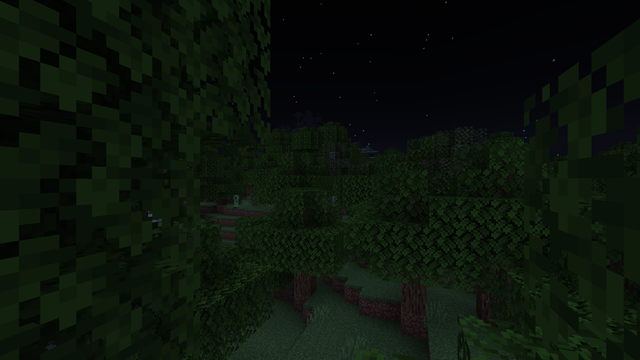creepers: (232, 194, 238, 207)
